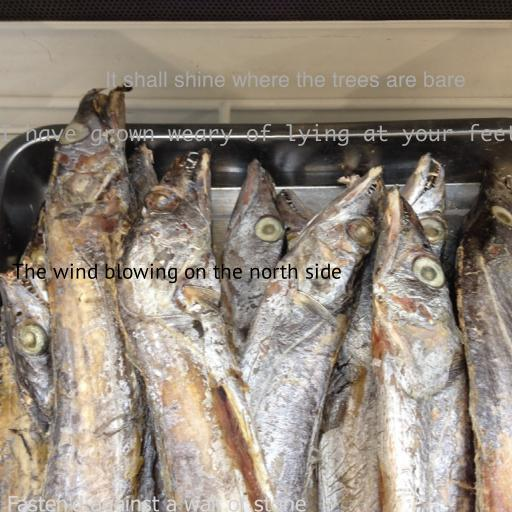Helvetica: (104, 71, 466, 88)
Monaco: (0, 123, 512, 146)
PT Sans: (12, 263, 342, 284)
Tahoma: (6, 495, 306, 512)
